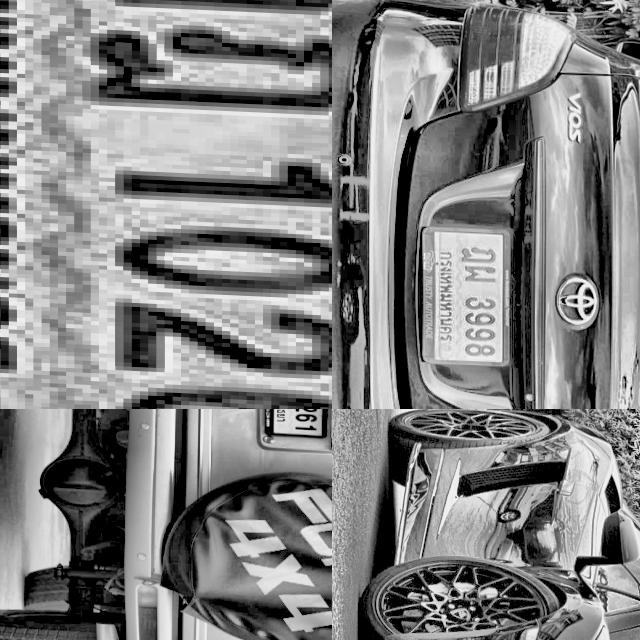license-plate: (0, 0, 332, 409), (417, 220, 515, 366), (262, 409, 328, 434)
